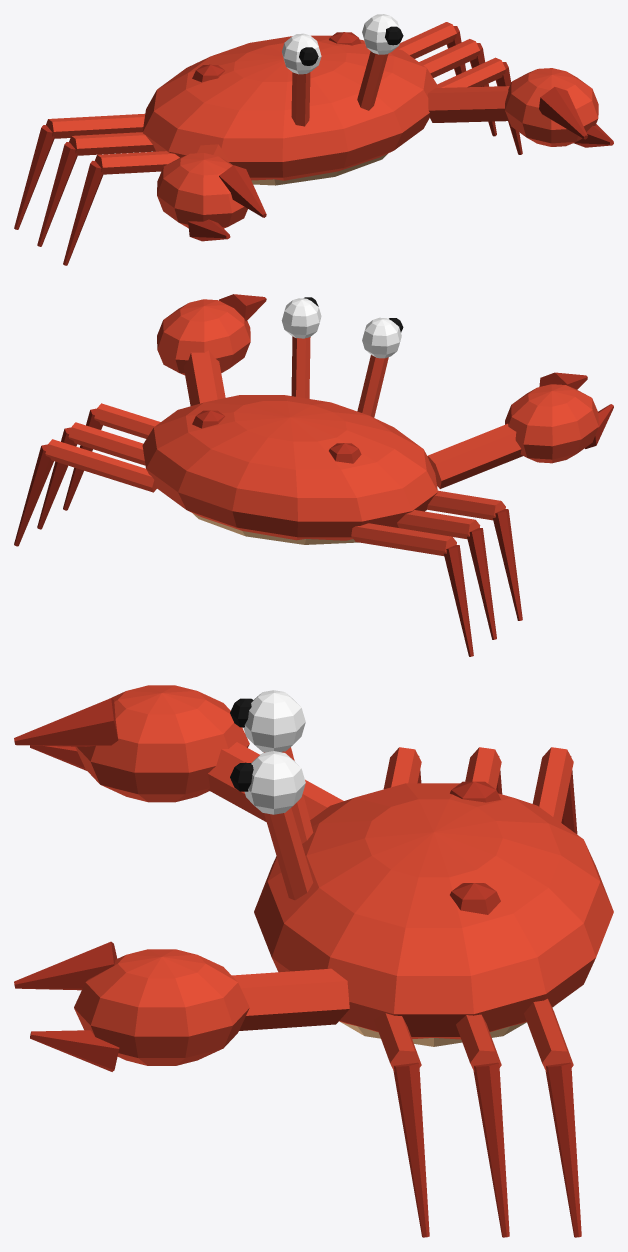
The model's file is crab.glb.
3 views of the same model, one above another, from view 1: azimuth 30°, elevation 25°; view 2: azimuth 150°, elevation 25°; view 3: azimuth 270°, elevation 25° (orthographic). The views are drawn at different scales.
Parts seen in each view (by area): view 1: Body, ClawL, LegsR, ClawR, LegsL; view 2: Body, ClawR, LegsR, LegsL, ClawL; view 3: Body, ClawL, ClawR, LegsL, LegsR.
Boxes of the visible parts, box(x1,y1,x2,y2) form: Body: box(142, 14, 437, 185); ClawL: box(427, 68, 613, 147); LegsR: box(14, 113, 179, 265); ClawR: box(157, 144, 266, 241); LegsL: box(396, 22, 522, 154); Body: box(142, 297, 437, 544); ClawR: box(427, 372, 613, 488); LegsR: box(351, 490, 522, 656); LegsL: box(14, 403, 160, 546); ClawL: box(157, 294, 266, 405); Body: box(230, 690, 613, 1046); ClawL: box(14, 941, 349, 1071); ClawR: box(14, 685, 343, 821); LegsL: box(374, 998, 581, 1237); LegsR: box(383, 747, 577, 834).
Bounding box in the file's own units: 2.06 × 0.9429 × 1.5.
